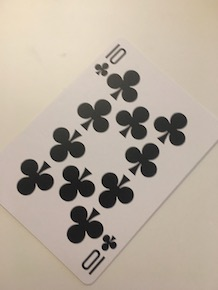TenOfClubs: (1, 32, 218, 285)
